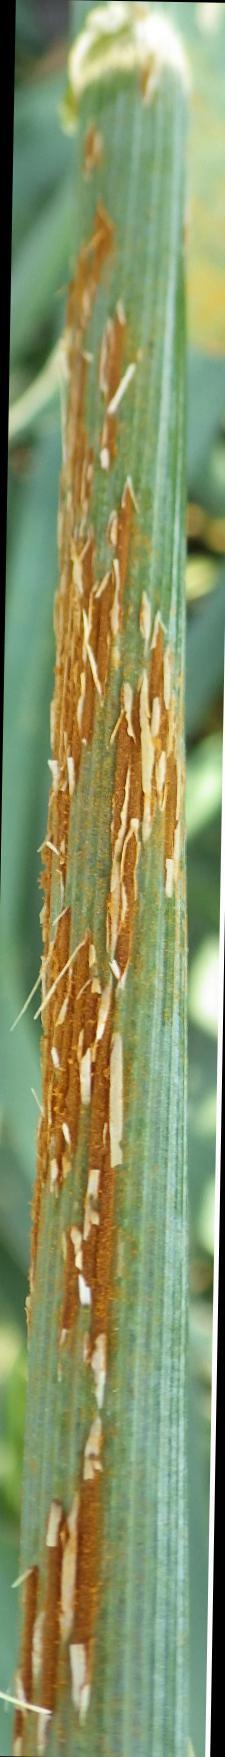Wheat: (69, 169, 162, 1367), (29, 1433, 167, 1757)
